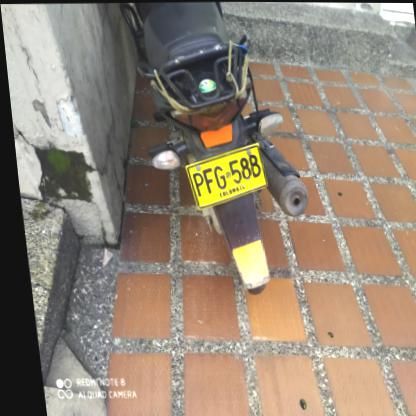placa: (175, 140, 272, 211)
